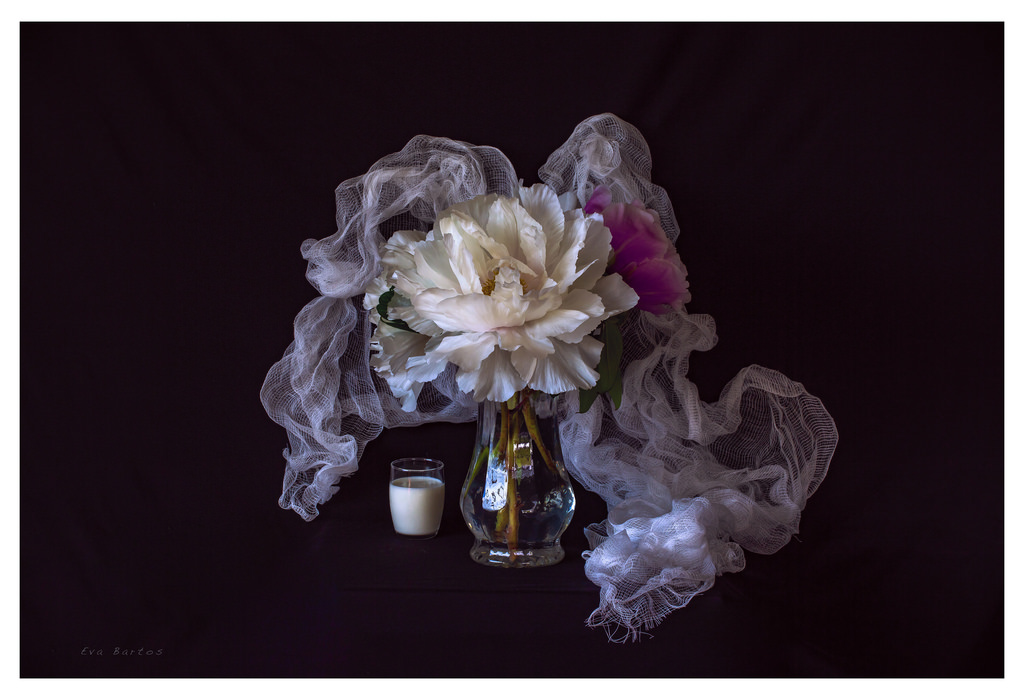glass of water: (475, 393, 565, 568)
